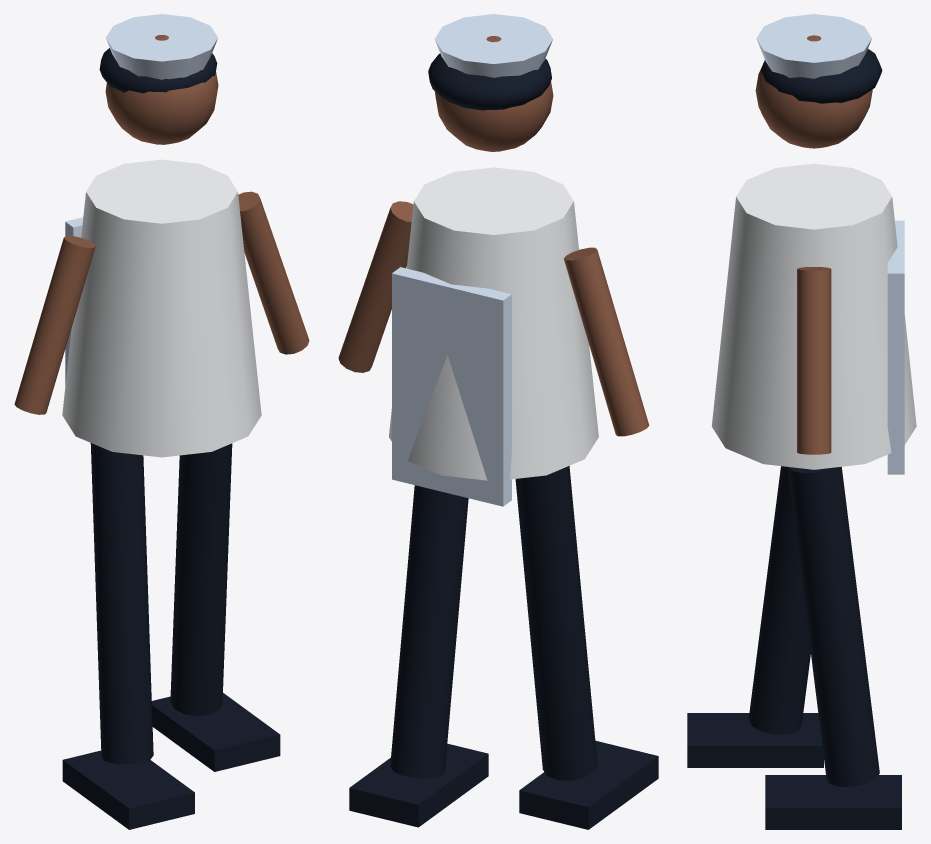
The picture shows the model from 3 angles, left to right: view 1: azimuth 30°, elevation 25°; view 2: azimuth 150°, elevation 25°; view 3: azimuth 270°, elevation 25°; orthographic projection. The views are drawn at different scales.
Visible parts, largest first — view 1: person-service-staff; view 2: person-service-staff; view 3: person-service-staff.
Part boxes in pixels (bbox=[...]): person-service-staff: bbox=[14, 14, 309, 829]; person-service-staff: bbox=[338, 14, 658, 829]; person-service-staff: bbox=[687, 14, 916, 829].
Size of the model in its own units: 0.7147 by 1.7 by 0.4755.
